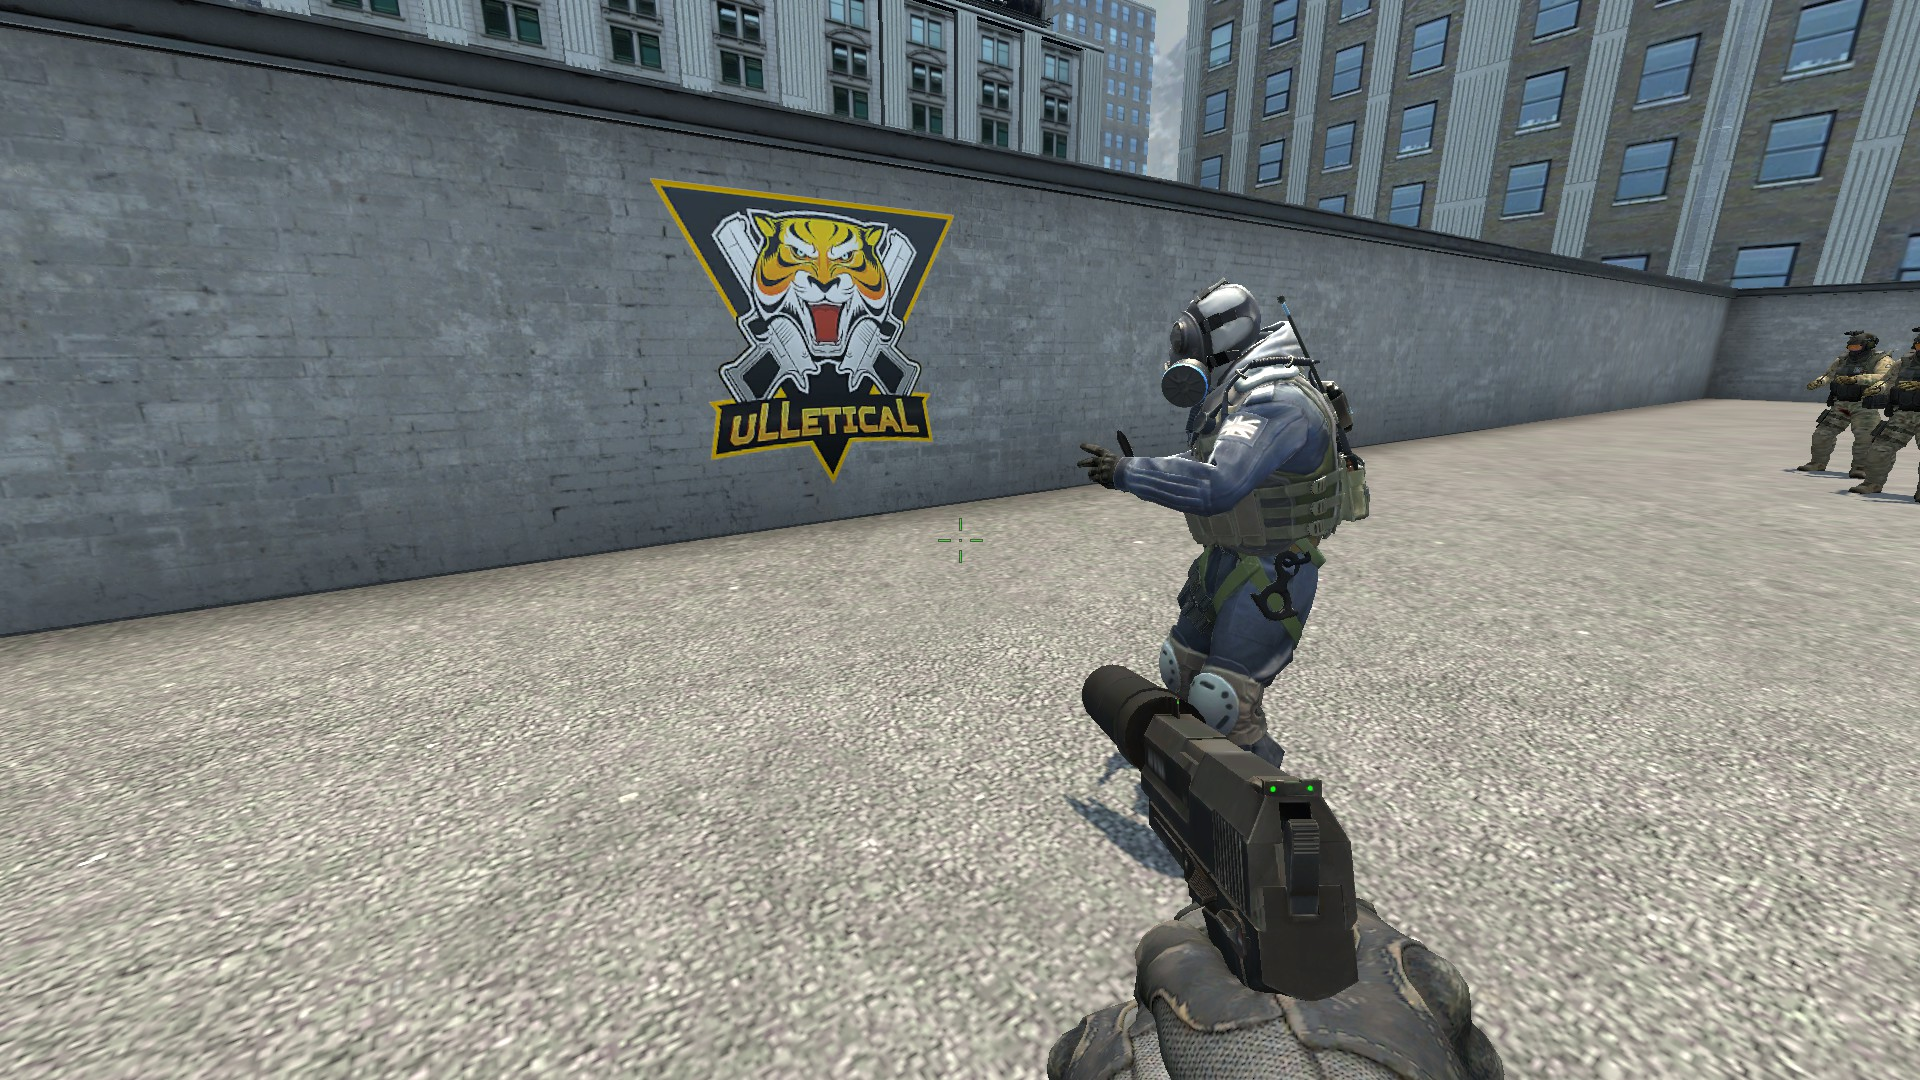ct: (1072, 273, 1375, 824)
ct head: (1154, 276, 1276, 411)
